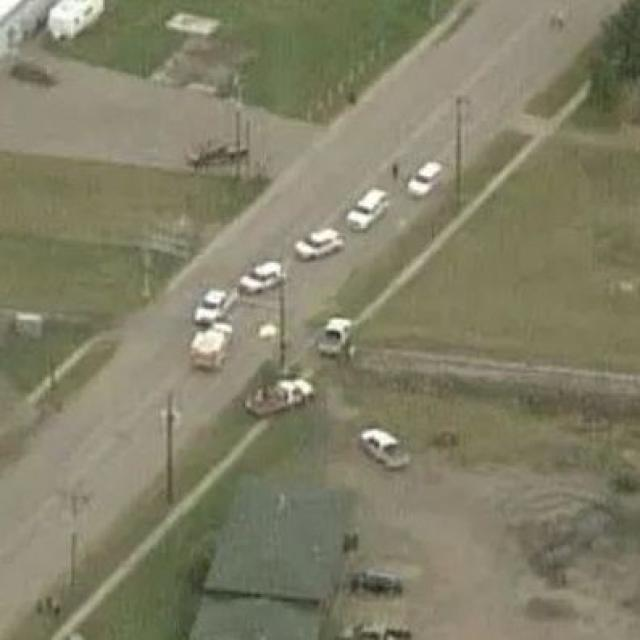traffic_incident: (160, 218, 311, 394)
